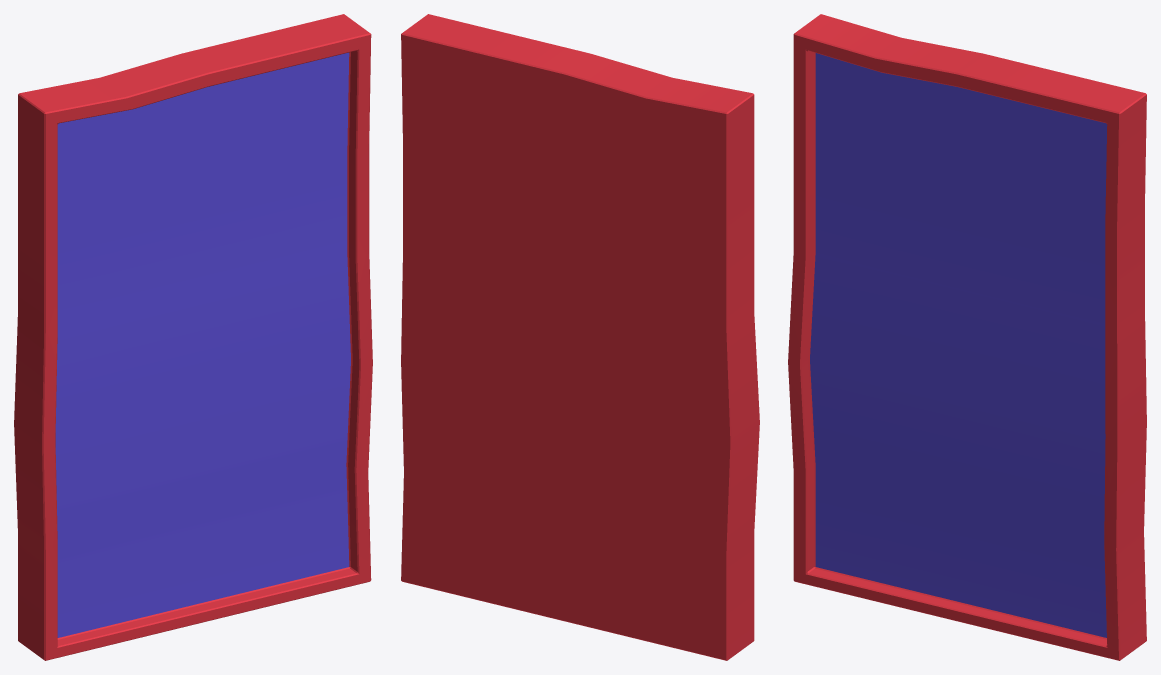
File: door.glb
3 renders of one model, left to right at view 1: azimuth 30°, elevation 25°; view 2: azimuth 150°, elevation 25°; view 3: azimuth 330°, elevation 25°, orthographic.
Visible parts, largest first — view 1: door; view 2: door; view 3: door.
Part boxes in pixels (x1,y1,x2,y2): door: (14,14,372,660); door: (401,14,759,660); door: (788,14,1146,660).
Size of the model in its own units: 1.58 by 2.5 by 0.2401.
